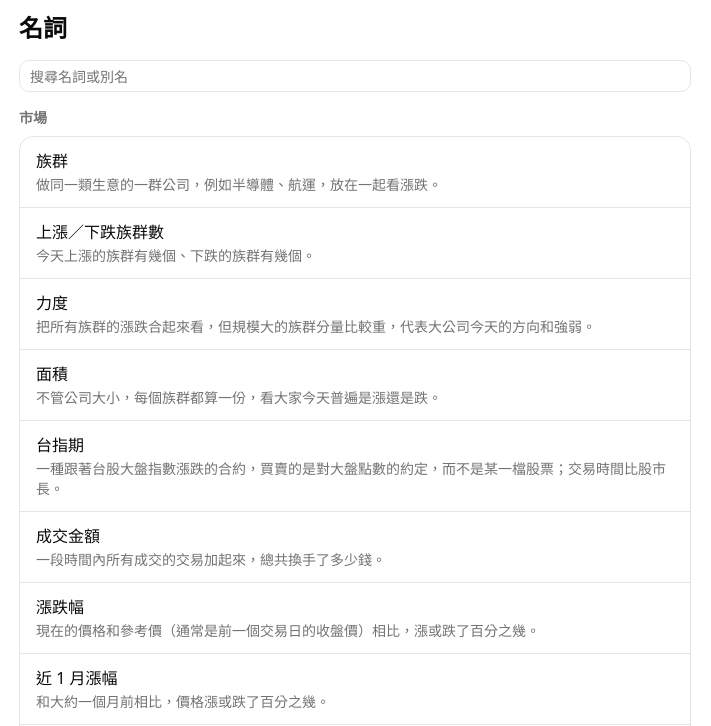
Scenario: GlossaryScreen › says so when nothing matches
Type "zzzzzz不存在" into the search field labelled "搜尋名詞" at [355, 76], box [19,60,691,92]
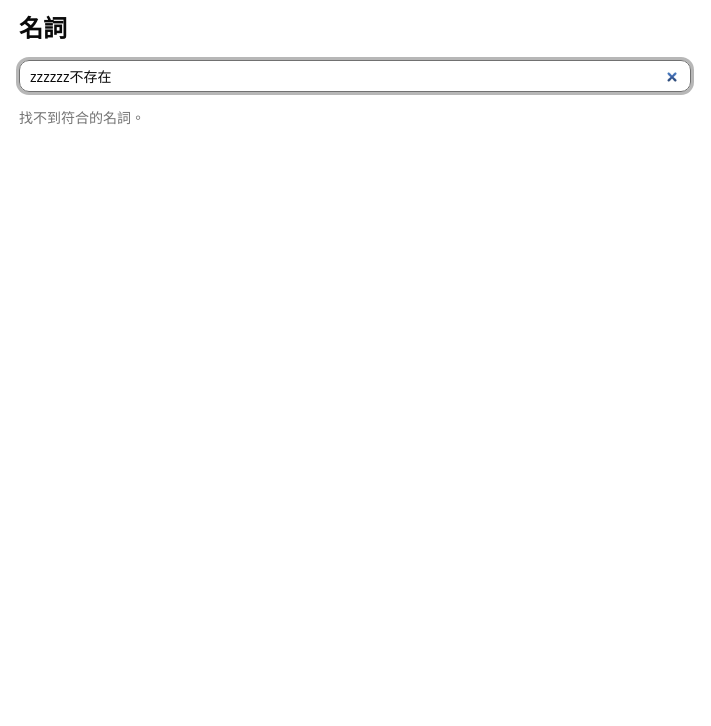
Expected: the text "找不到符合的名詞。" is shown, [19,108,145,127]
